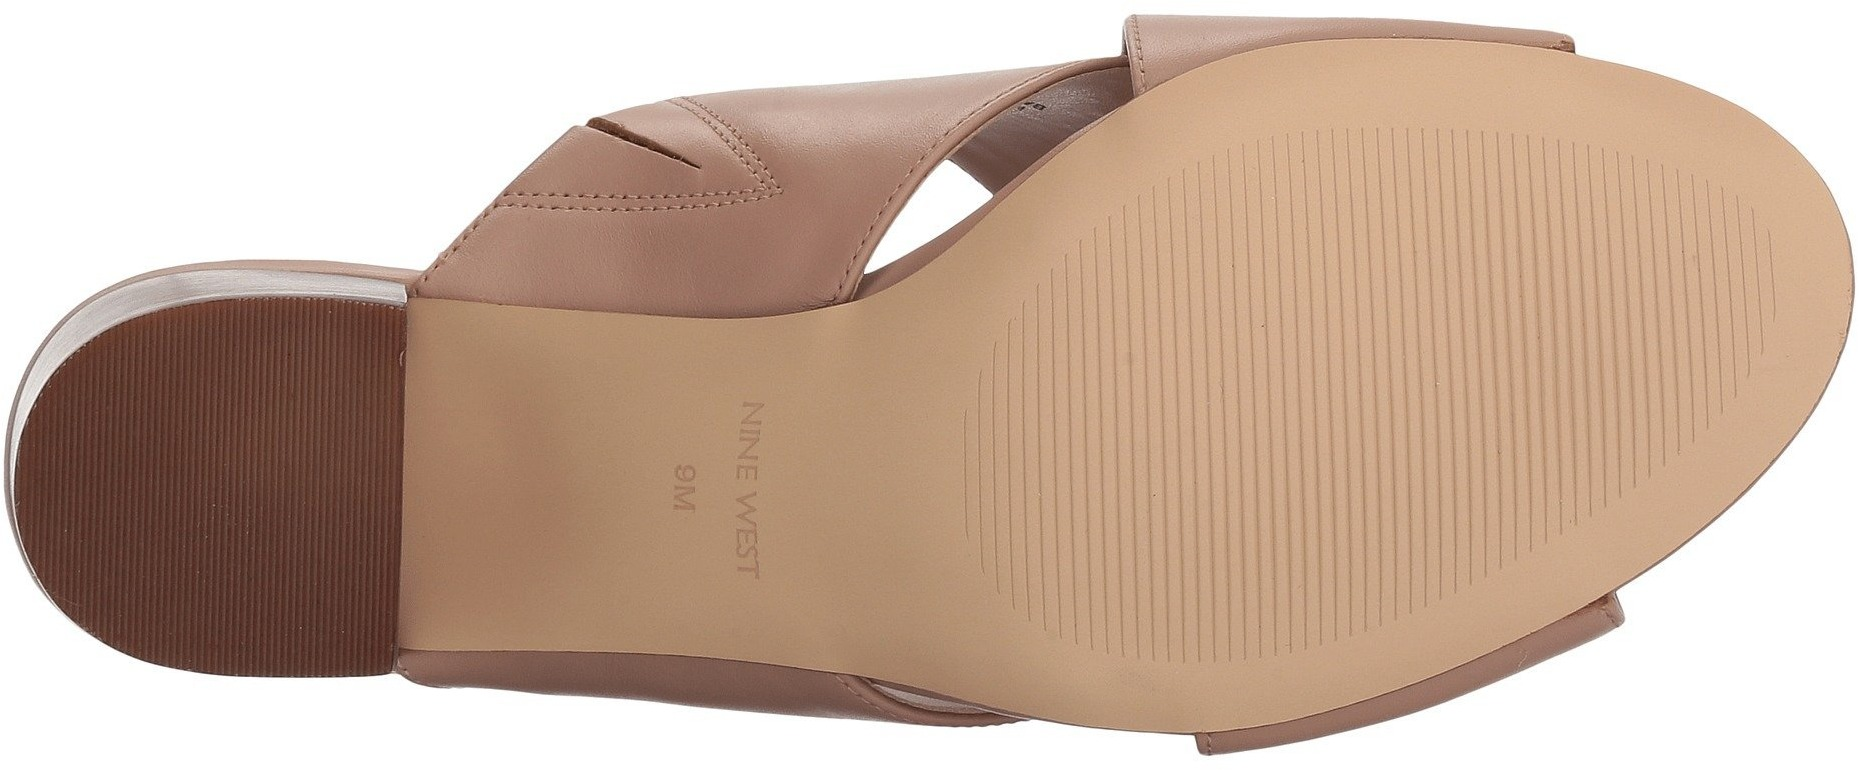other: (1424, 149, 1774, 460), (1016, 339, 1335, 648), (106, 359, 391, 617), (1203, 144, 1419, 341), (1343, 451, 1495, 586)
